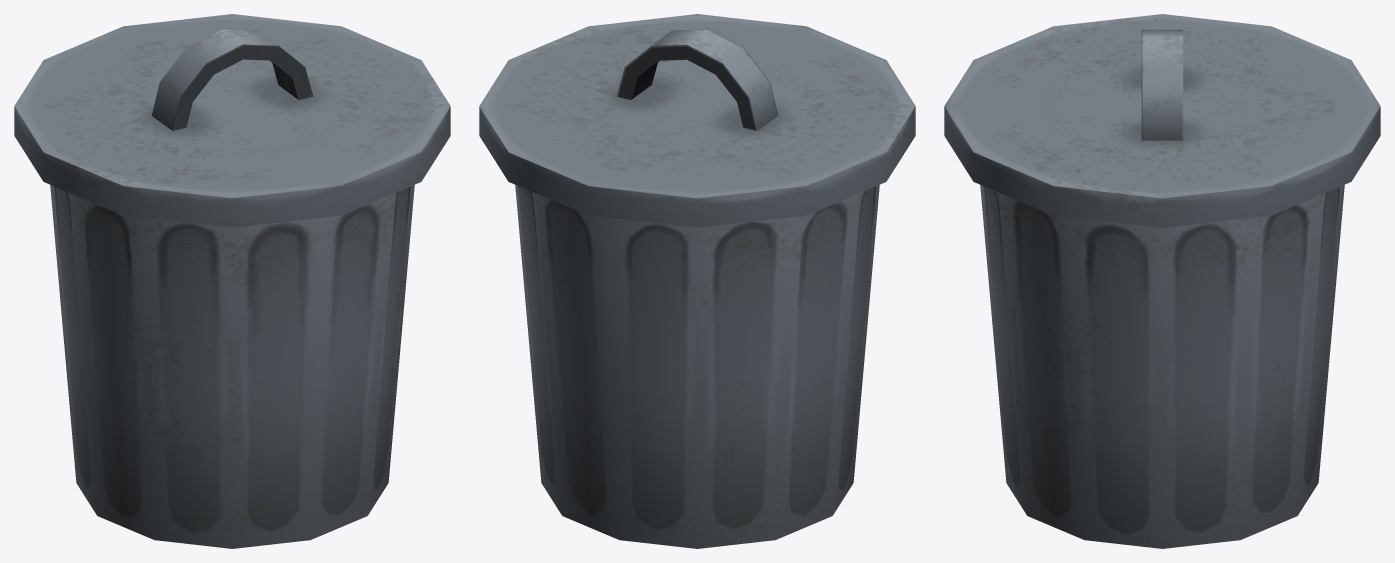
Rendered from Trashcan_geo.fbx.
The picture shows the model from 3 angles, left to right: view 1: azimuth 30°, elevation 25°; view 2: azimuth 150°, elevation 25°; view 3: azimuth 270°, elevation 25°; orthographic projection.
Parts seen in each view (by area): view 1: Trashcan_geo, Trashcan_lid_geo; view 2: Trashcan_geo, Trashcan_lid_geo; view 3: Trashcan_geo, Trashcan_lid_geo.
Boxes of the visible parts, box(x1,y1,x2,y2) form: Trashcan_geo: box(50, 185, 414, 548); Trashcan_lid_geo: box(14, 14, 450, 227); Trashcan_geo: box(515, 185, 879, 548); Trashcan_lid_geo: box(479, 14, 915, 227); Trashcan_geo: box(980, 185, 1344, 548); Trashcan_lid_geo: box(944, 14, 1380, 227).
Bounding box in the file's own units: 2.18 × 2.46 × 2.18.
1 material, 1 textured.
